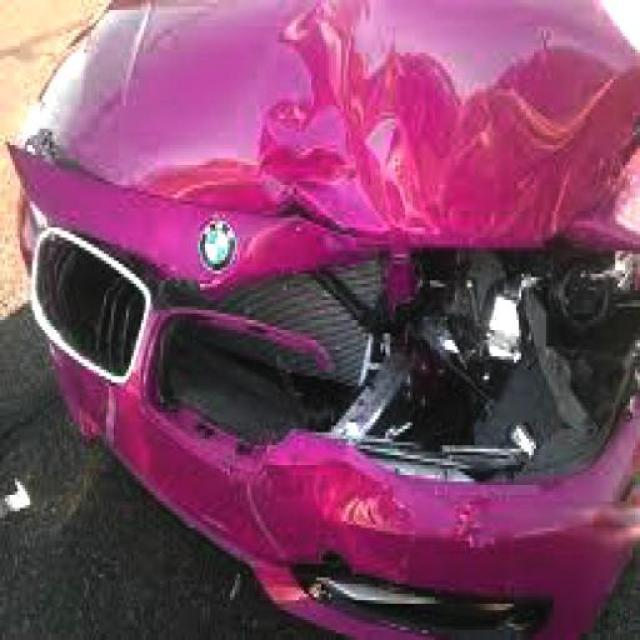car damage: (10, 29, 640, 640)
